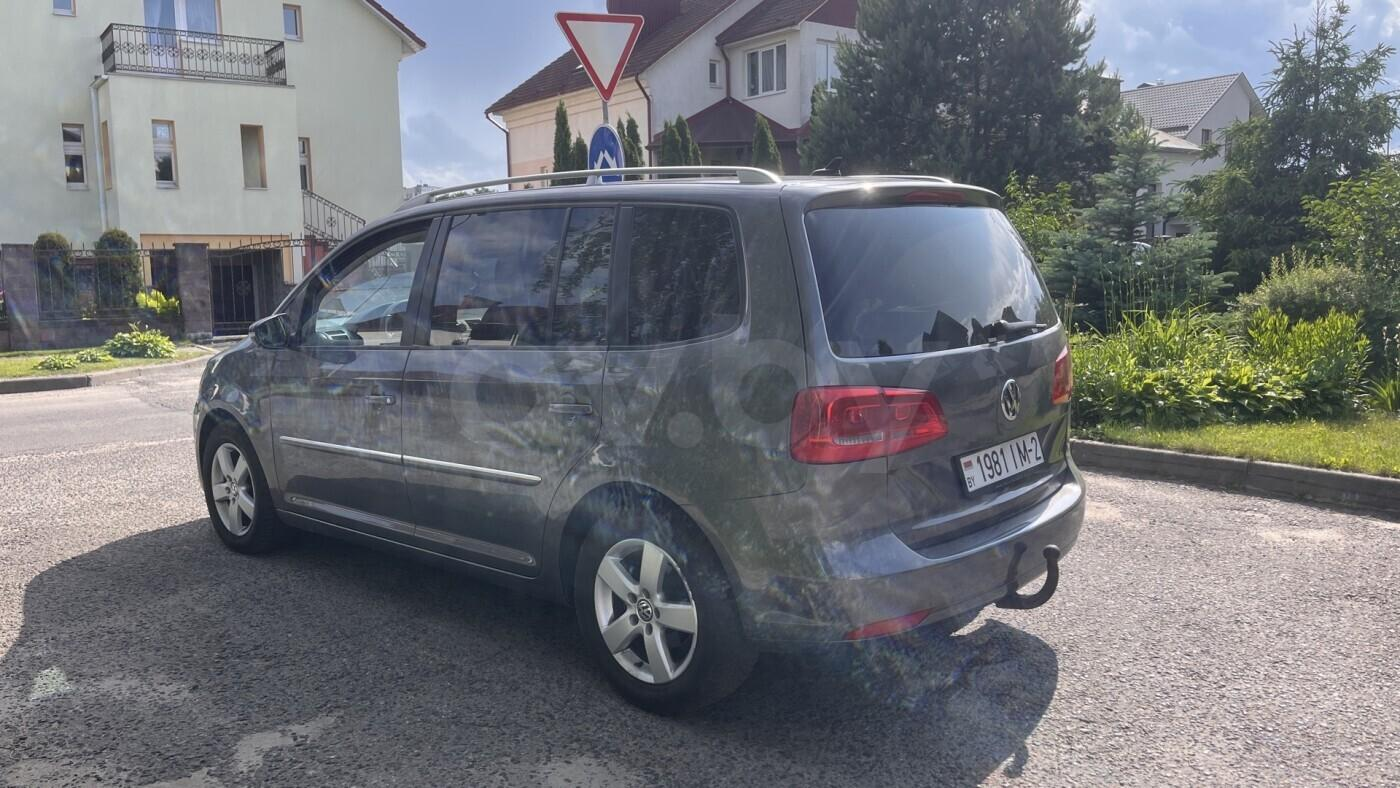Touran_2010-2015: (190, 161, 1085, 707)
